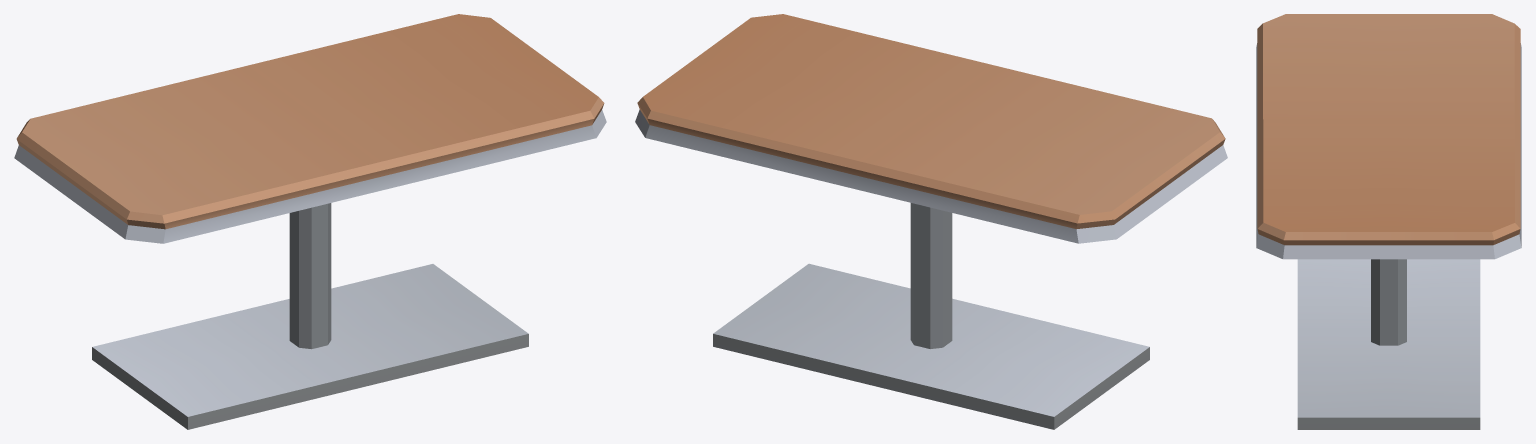
Rendered from TableSquare_Mesh.fbx.
3 views of the same model, side by side, from view 1: azimuth 30°, elevation 25°; view 2: azimuth 150°, elevation 25°; view 3: azimuth 270°, elevation 25° (orthographic). The views are drawn at different scales.
Visible parts, largest first — view 1: TableSquare_Mesh; view 2: TableSquare_Mesh; view 3: TableSquare_Mesh.
Boxes of the visible parts, bbox=[...] form: TableSquare_Mesh: bbox=[14, 14, 606, 429]; TableSquare_Mesh: bbox=[635, 14, 1227, 429]; TableSquare_Mesh: bbox=[1256, 14, 1521, 429].
Size of the model in its own units: 200 by 94.76 by 100.
1 material, 1 textured.
